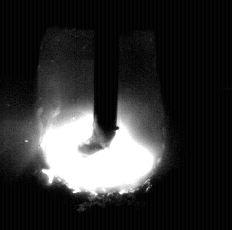arame: (95, 0, 119, 151)
poca: (39, 0, 167, 230)
